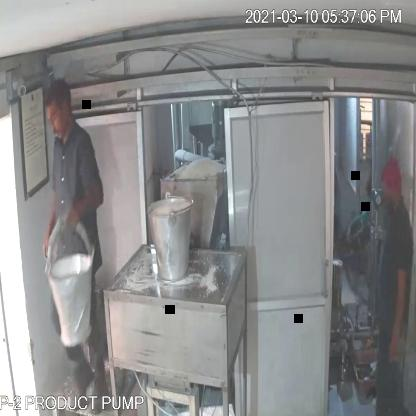no_glove: (381, 263, 411, 372), (66, 185, 112, 234)
